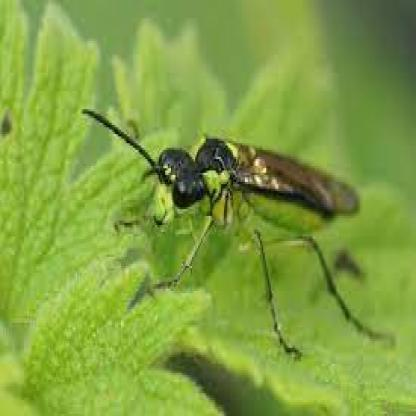sawfly: (77, 100, 400, 350)
